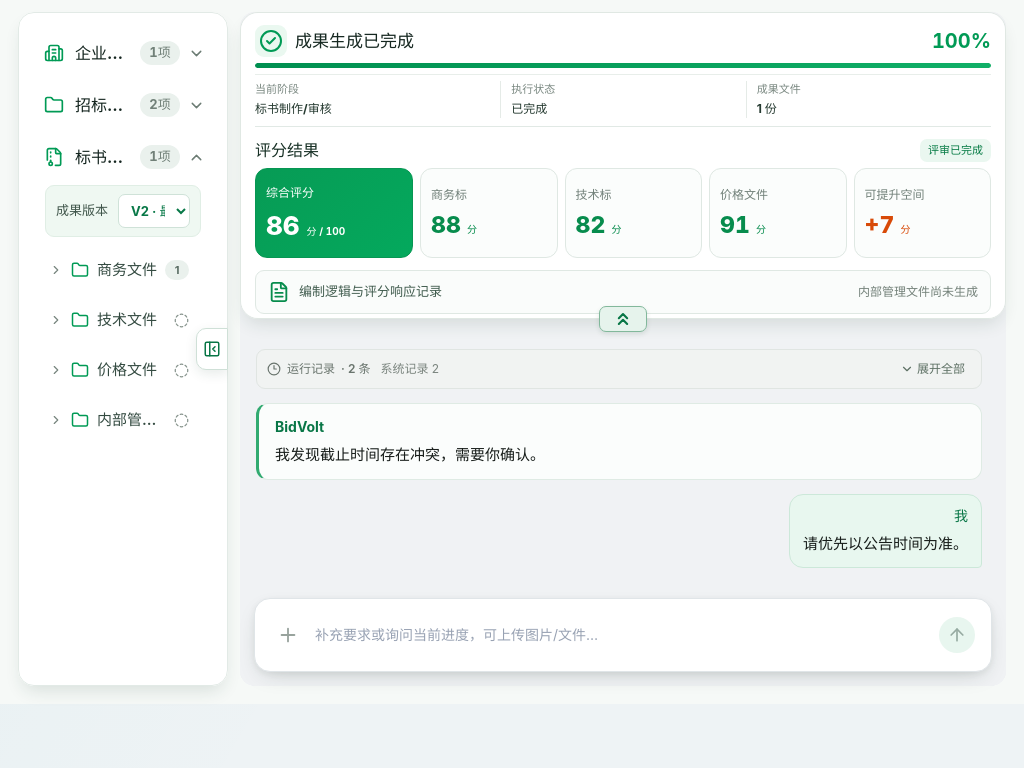
Scenario: ProjectGenerationWorkspace › requests authoritative results after switching versions and reports refresh failures without changing the score
Select "V1" in the dropdown named "标书成果整包版本" at {"x": 154, "y": 211}, box 118,194 -> 190,228
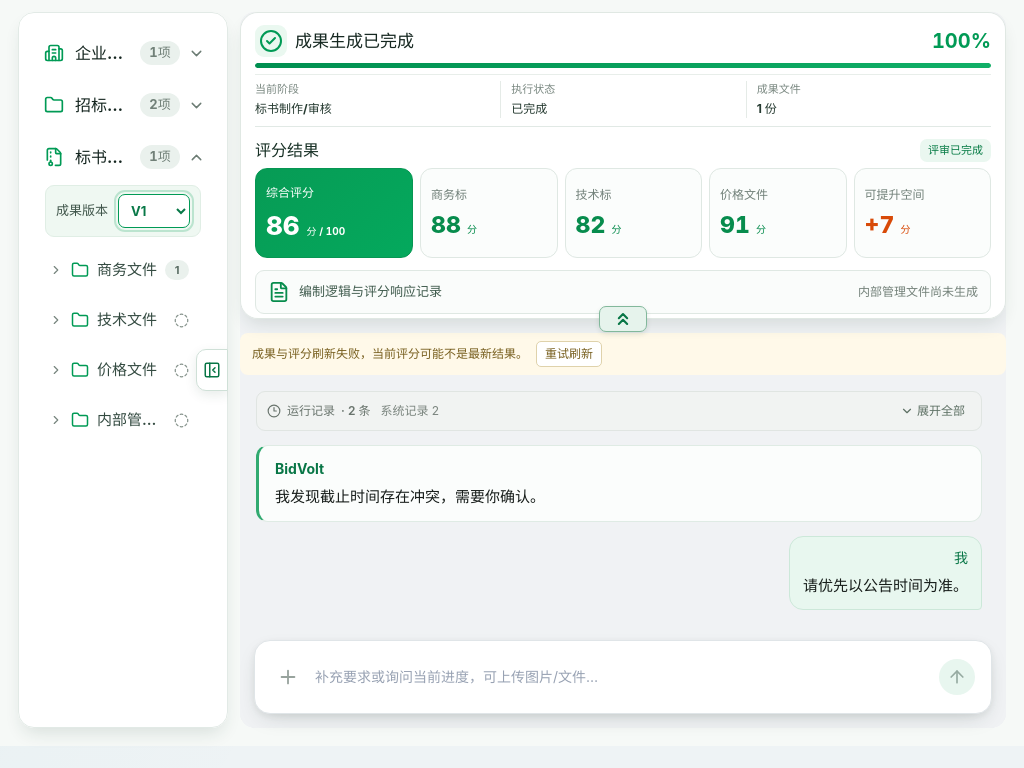
Expected: the text "成果与评分刷新失败，当前评分可能不是最新结果。" is shown, 252,345 -> 528,363
Click the button "重试刷新" at {"x": 569, "y": 354}, box 536,341 -> 602,367
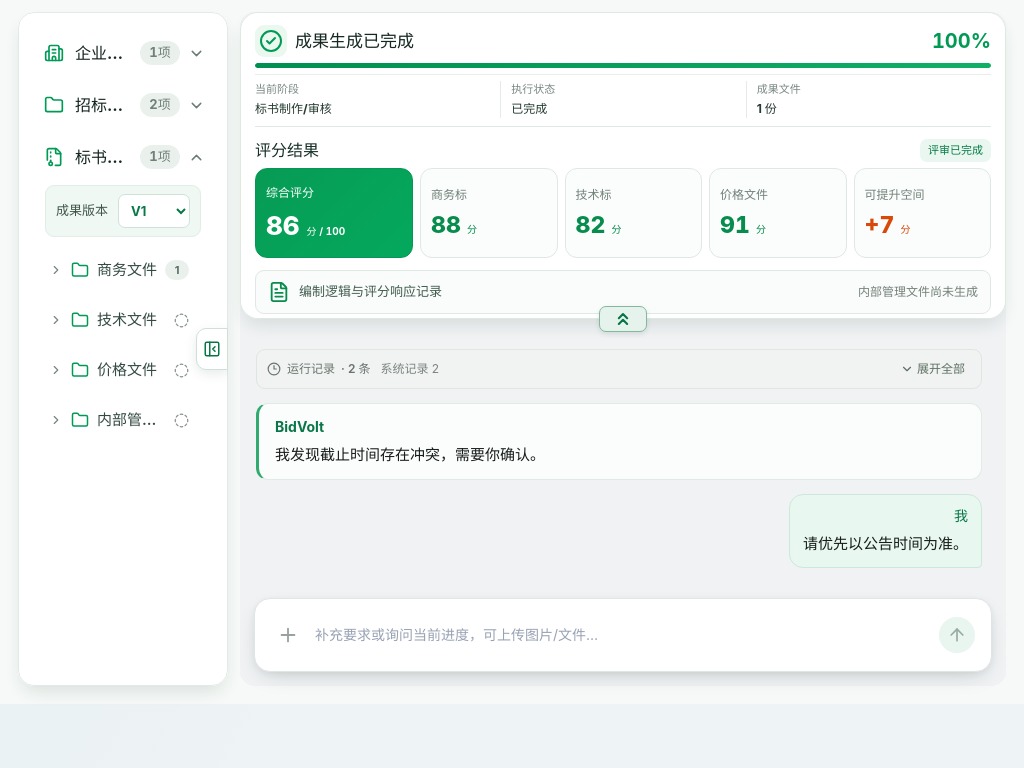
Expected: the text "成果与评分刷新失败，当前评分可能不是最新结果。" is gone
